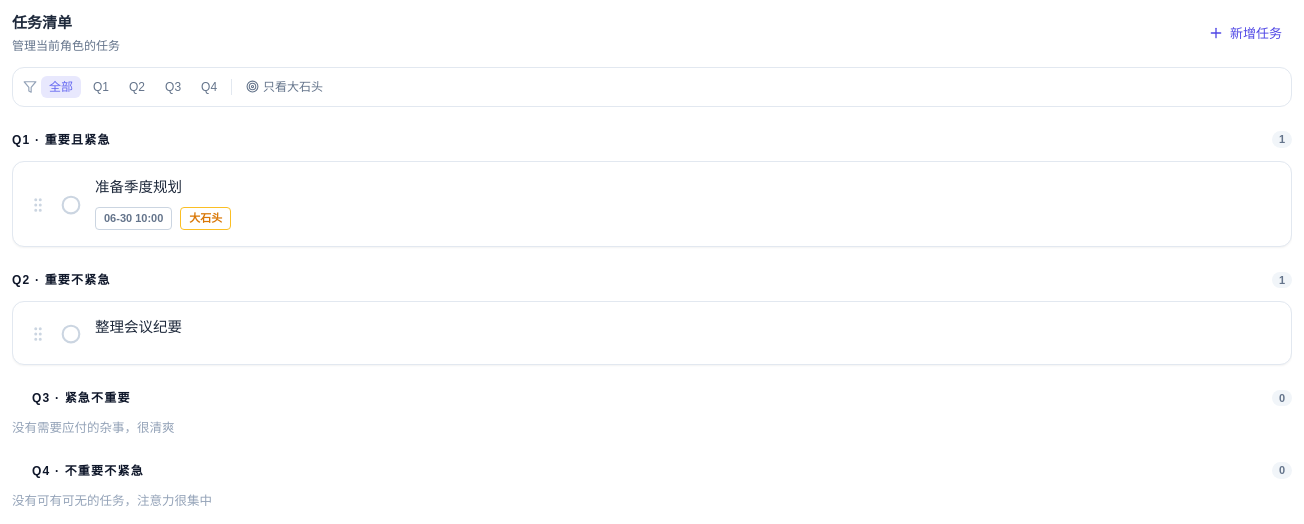
Test: TasksTab › 顶部象限筛选只显示选中的象限，点全部恢复全量展示
Click the button "Q2": (137,86) [121,76,153,98]
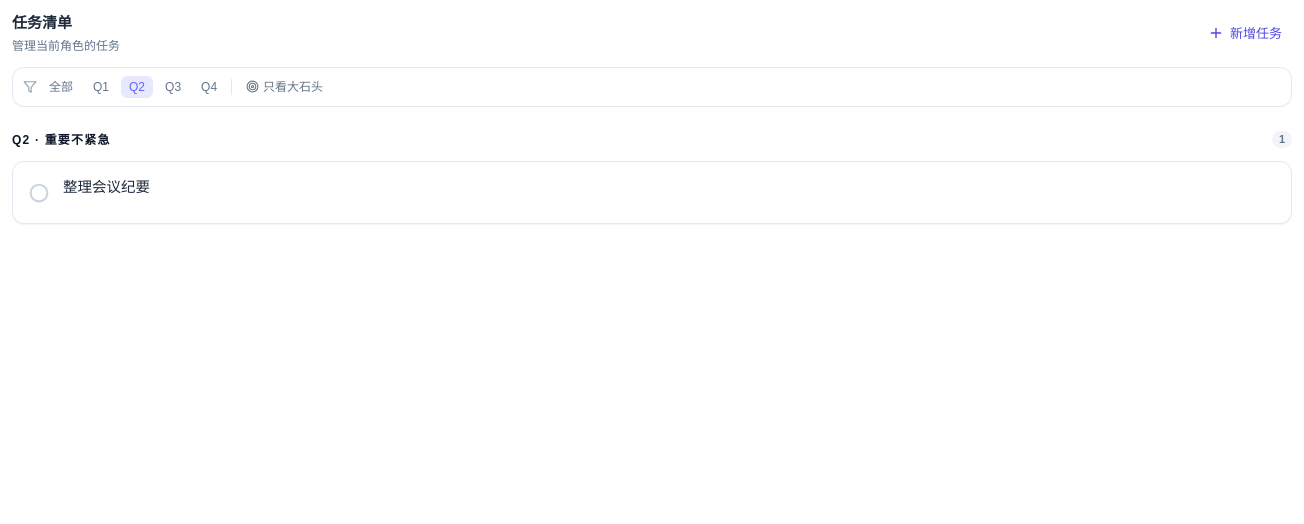
Expected: the text "整理会议纪要" is shown, [63,178,150,194]
Expected: the text "准备季度规划" is gone
Expected: the text "Q1 · 重要且紧急" is gone
Click the button "全部": (61,86) [41,76,81,98]
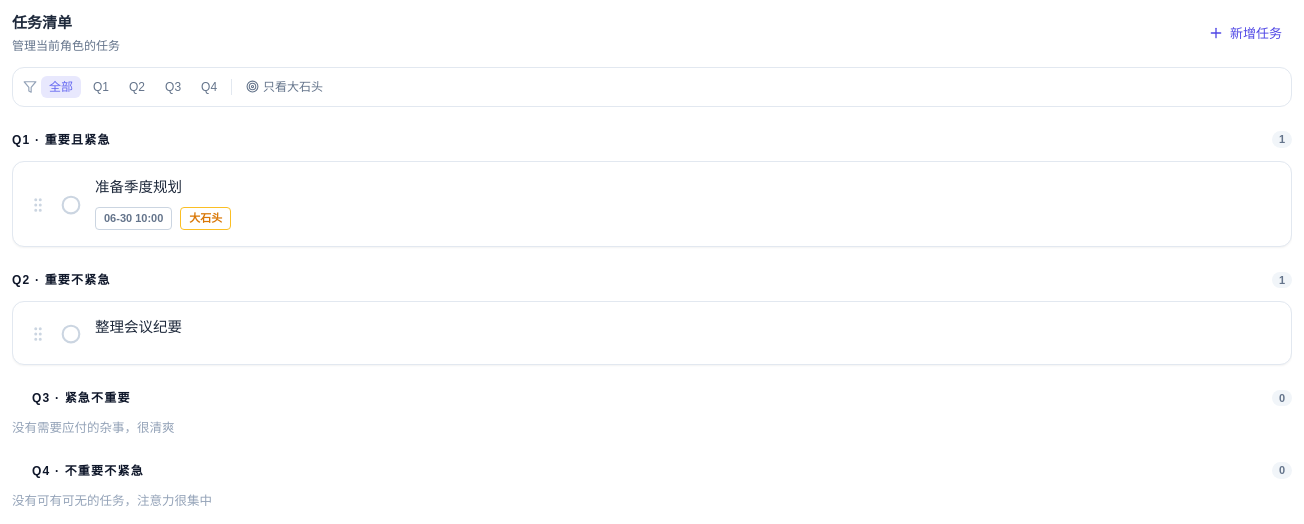
Expected: the text "准备季度规划" is shown, [95,178,182,194]
Expected: the button named "拖动排序 准备季度规划" is shown, [29,180,47,230]
